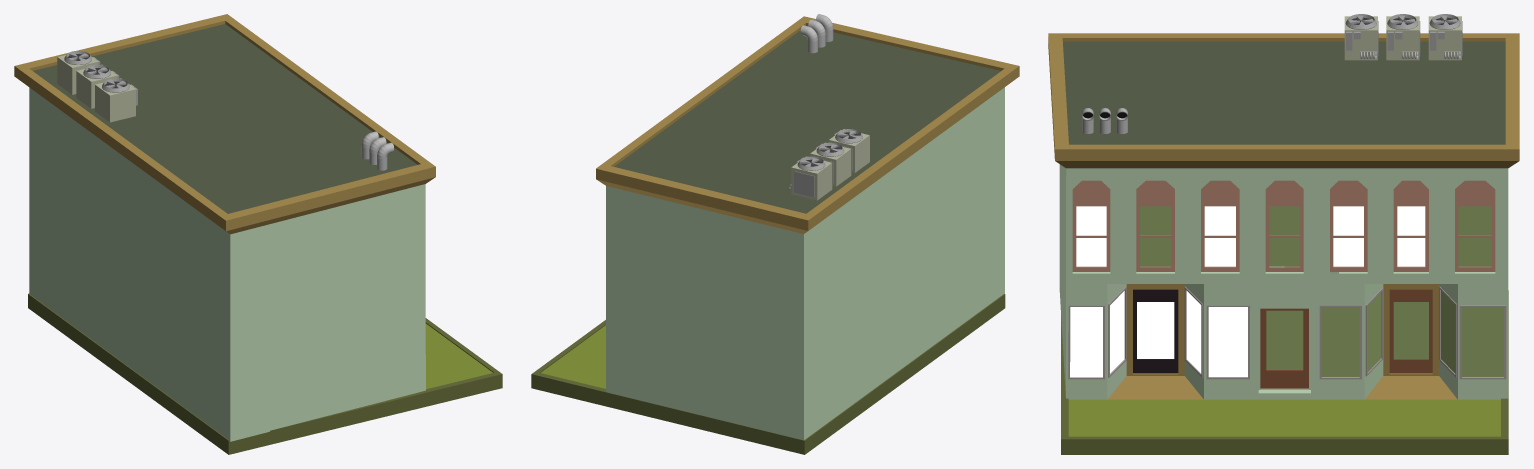
File: store3.glb
3 renders of one model, left to right at view 1: azimuth 30°, elevation 25°; view 2: azimuth 150°, elevation 25°; view 3: azimuth 270°, elevation 25°, orthographic. The views are drawn at different scales.
Visible parts, largest first — view 1: Cube, Cube.001, Plane, Cube.005, Cube.003, Cube.004, Cylinder.004; view 2: Cube, Cube.001, Plane, Cube.003, Cube.004, Cube.005, Cylinder.004; view 3: Cube, Plane, Cube.001, Cube.004, Cube.003, Cube.005, Cylinder.004.
Boxes of the visible parts, bbox=[...] form: Cube: bbox=[14, 14, 435, 441]; Cube.001: bbox=[28, 293, 502, 454]; Plane: bbox=[425, 323, 492, 389]; Cube.005: bbox=[95, 78, 137, 122]; Cube.003: bbox=[57, 50, 100, 94]; Cube.004: bbox=[76, 64, 119, 108]; Cylinder.004: bbox=[361, 131, 393, 170]; Cube: bbox=[596, 16, 1019, 440]; Cube.001: bbox=[531, 294, 1005, 454]; Plane: bbox=[541, 325, 605, 388]; Cube.003: bbox=[789, 156, 832, 200]; Cube.004: bbox=[810, 142, 851, 186]; Cube.005: bbox=[829, 129, 869, 172]; Cylinder.004: bbox=[800, 14, 833, 53]; Cube: bbox=[1048, 33, 1519, 399]; Plane: bbox=[1068, 399, 1500, 436]; Cube.001: bbox=[1061, 290, 1508, 454]; Cube.004: bbox=[1386, 14, 1420, 60]; Cube.003: bbox=[1428, 14, 1462, 60]; Cube.005: bbox=[1344, 14, 1378, 60]; Cylinder.004: bbox=[1082, 108, 1127, 133].
Bounding box in the file's own units: 22.78 × 20.64 × 29.56.
